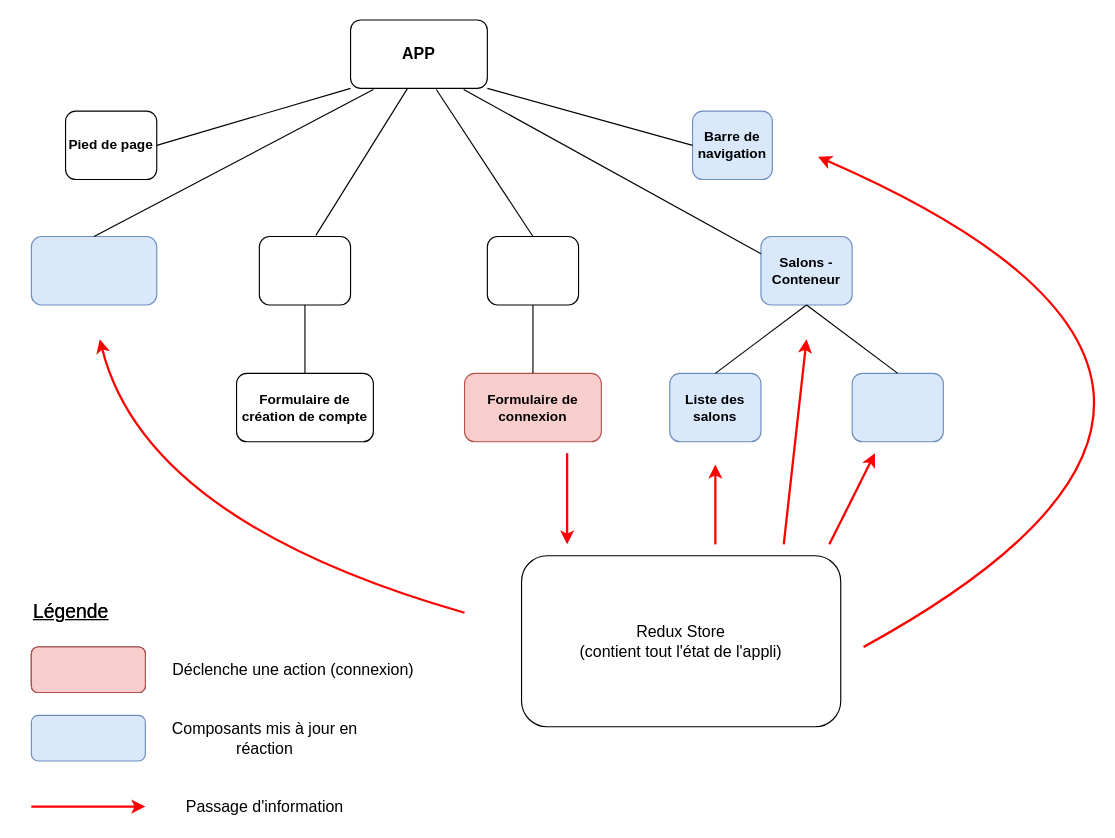
This 1115x838 diagram has some shape labels left out. The centre of each missing label's shape, as x and y in pixels:
Connexion Conteneur: [532,270]
Création de compte Conteneur: [304,270]
Formulaire de création de salon: [897,407]
Notification: [93,270]
